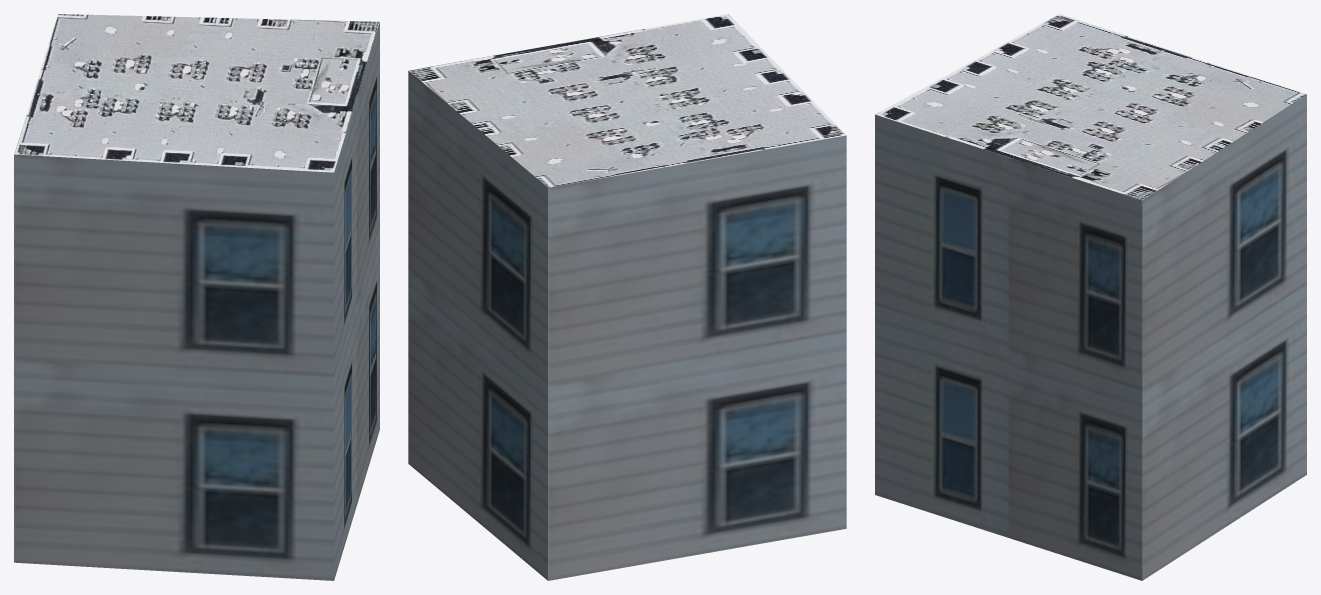
The model's file is ResTex__247.fbx.
The picture shows the model from 3 angles, left to right: view 1: azimuth 30°, elevation 25°; view 2: azimuth 150°, elevation 25°; view 3: azimuth 270°, elevation 25°; orthographic projection. The views are drawn at different scales.
Parts seen in each view (by area): view 1: CityEngineMaterial_18_m, CityEngineMaterial_m; view 2: CityEngineMaterial_18_m, CityEngineMaterial_m; view 3: CityEngineMaterial_18_m, CityEngineMaterial_m.
Part boxes in pixels (left/top/right/bottom): CityEngineMaterial_18_m: left=14, top=22, right=379, bottom=580; CityEngineMaterial_m: left=14, top=14, right=379, bottom=172; CityEngineMaterial_18_m: left=408, top=71, right=846, bottom=580; CityEngineMaterial_m: left=409, top=14, right=846, bottom=187; CityEngineMaterial_18_m: left=875, top=94, right=1306, bottom=580; CityEngineMaterial_m: left=875, top=14, right=1306, bottom=200.
Bounding box in the file's own units: 6.31 × 6 × 6.17.
2 materials, 2 textured.
